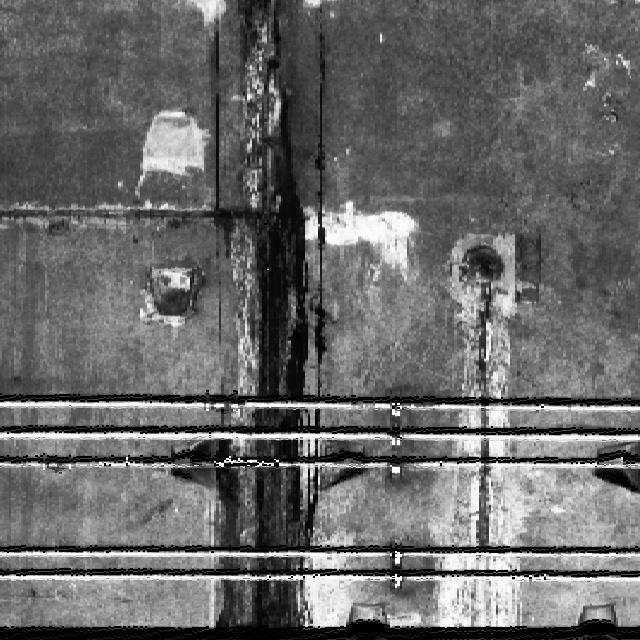leakage: (185, 2, 332, 639)
